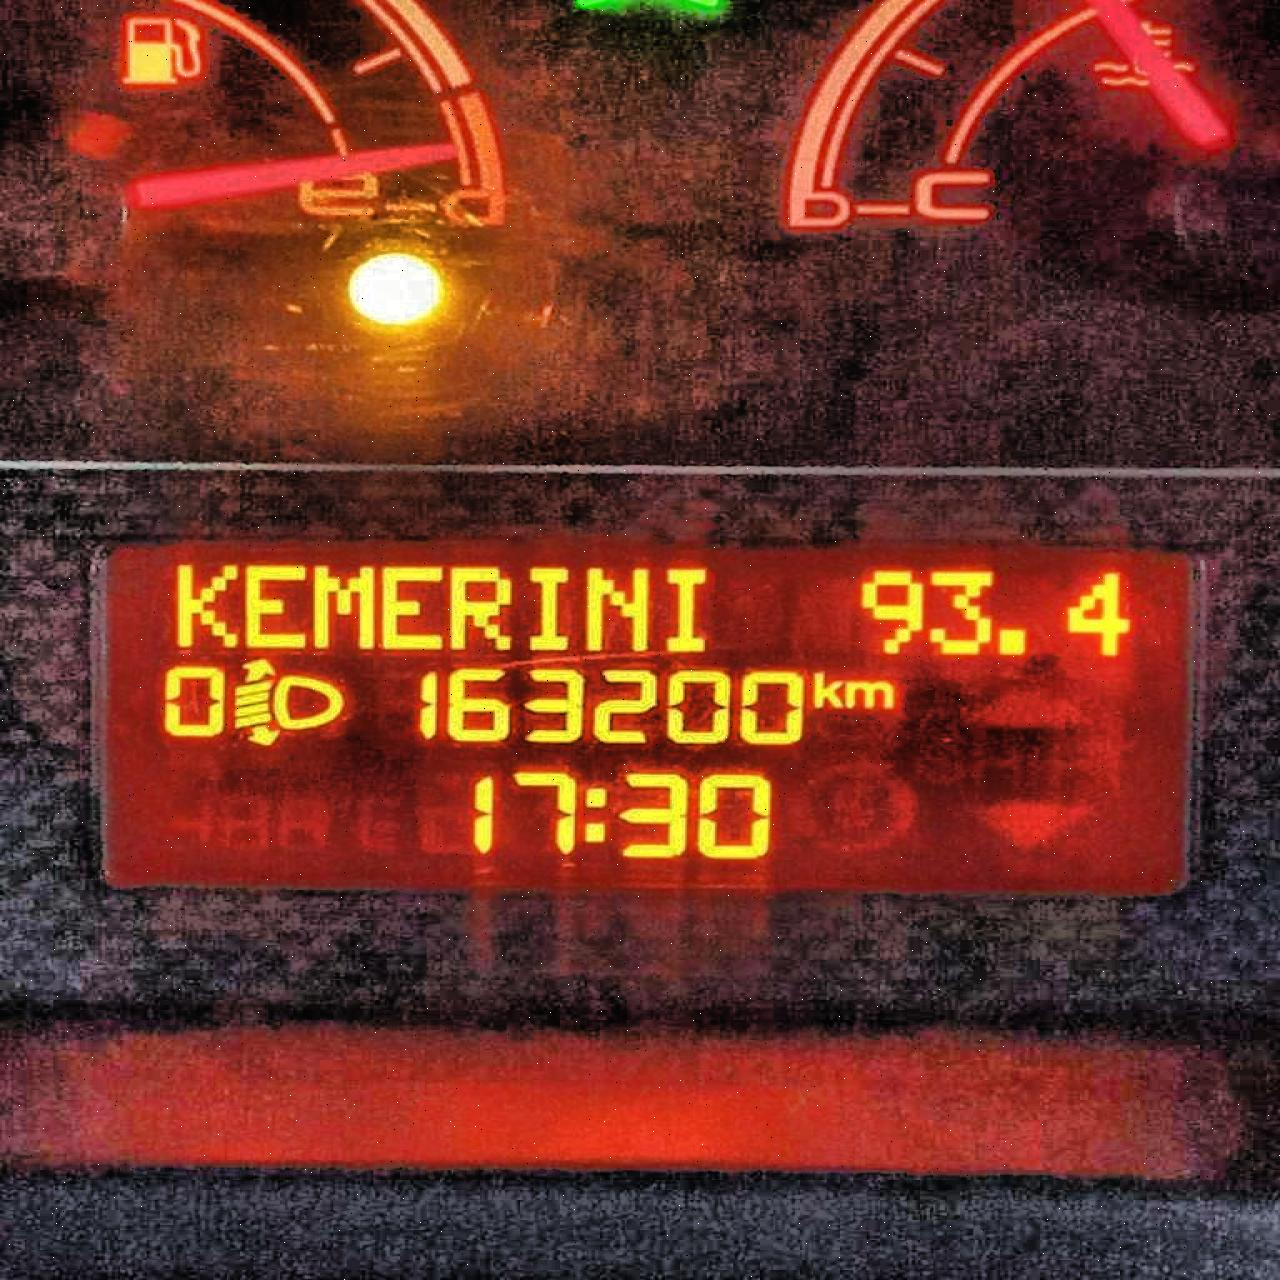-: (992, 624, 1032, 660)
0: (693, 767, 777, 864), (660, 662, 731, 748), (157, 661, 230, 742), (735, 665, 806, 747)
1: (455, 768, 497, 857), (402, 661, 442, 742)
2: (587, 665, 655, 747)
3: (615, 765, 685, 859), (928, 564, 989, 658), (520, 663, 585, 748)
4: (1055, 566, 1138, 659)
6: (445, 662, 517, 745)
7: (505, 765, 580, 859)
9: (849, 565, 925, 656)
X: (166, 558, 240, 653), (447, 558, 516, 653), (376, 560, 447, 652), (238, 560, 308, 651), (580, 563, 648, 655), (308, 561, 376, 651), (659, 564, 715, 653), (523, 564, 574, 654), (843, 675, 900, 712), (580, 784, 608, 845), (810, 665, 843, 712)
odometer: (86, 531, 1205, 903)
